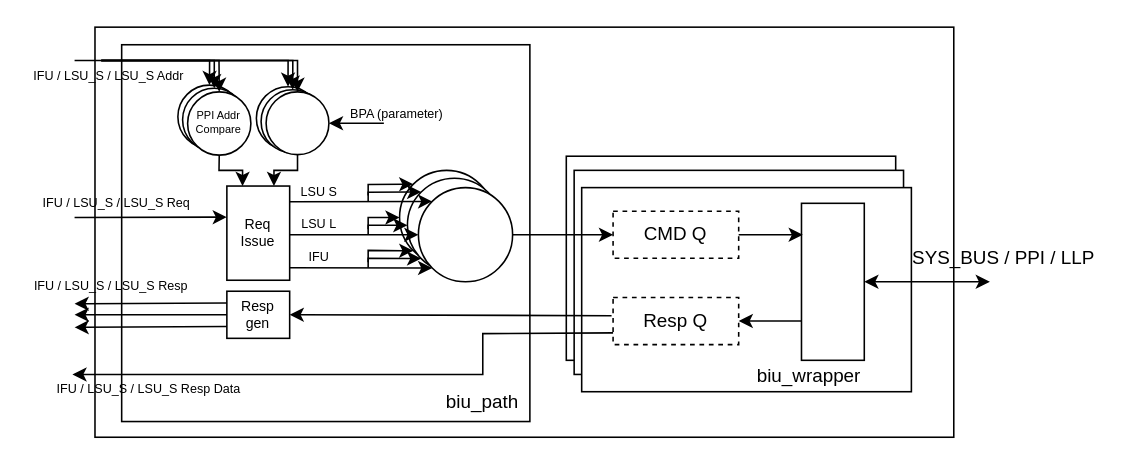
Image size: 1148x466. Some labels were removed from this diagram. Each missing label, with the centre of its shape:
Arbiter: [465,234]
Bus IF: [832,281]
LLP Addr Compare: [297,122]
